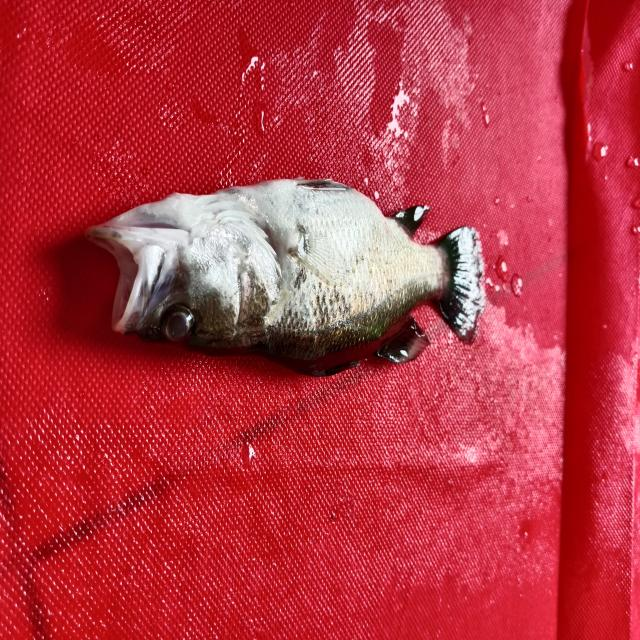ikan: (75, 152, 522, 392)
